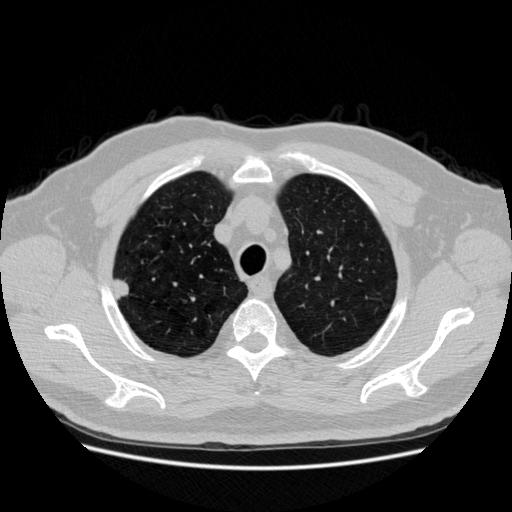nodule: (109, 277, 132, 300)
